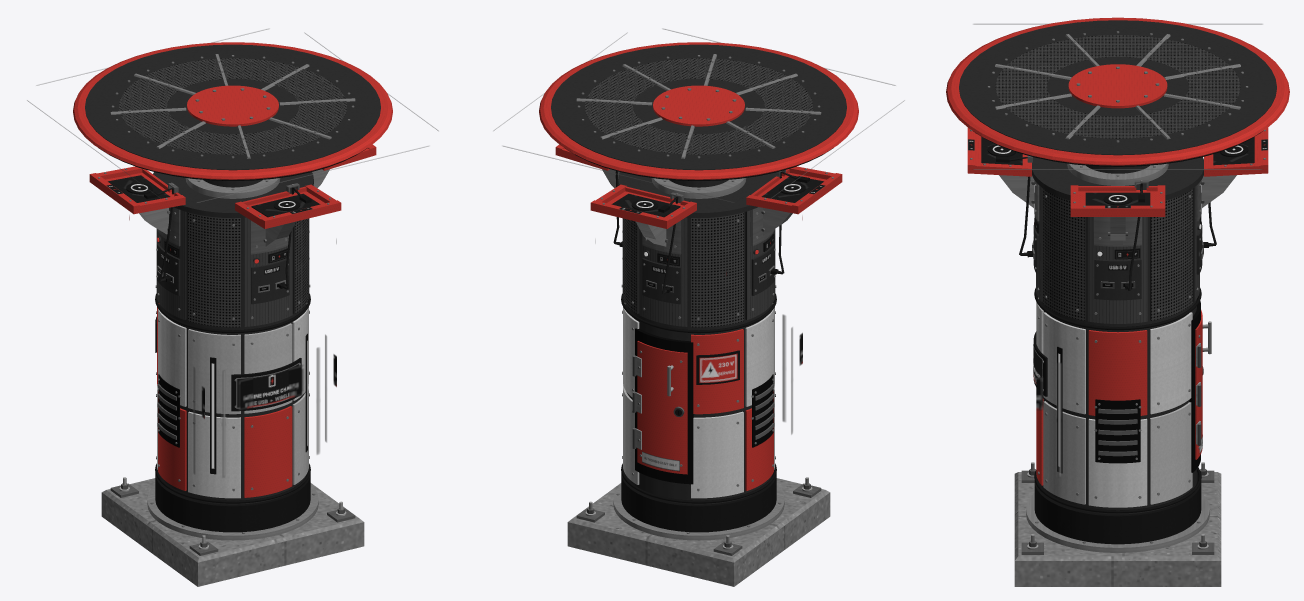
The model's file is chargepillar-CHpzhi-Q.glb.
The picture shows the model from 3 angles, left to right: view 1: azimuth 30°, elevation 25°; view 2: azimuth 150°, elevation 25°; view 3: azimuth 270°, elevation 25°; orthographic projection. The views are drawn at different scales.
Parts seen in each view (by area): view 1: body, farBaked, glow; view 2: body, farBaked; view 3: body, farBaked, glow.
Boxes of the visible parts, x1=… form: body: x1=73, y1=42, x2=392, y2=586; farBaked: x1=27, y1=28, x2=438, y2=477; glow: x1=130, y1=184, x2=307, y2=468; body: x1=539, y1=42, x2=858, y2=586; farBaked: x1=493, y1=29, x2=904, y2=434; body: x1=946, y1=17, x2=1289, y2=586; farBaked: x1=973, y1=23, x2=1262, y2=477; glow: x1=992, y1=145, x2=1243, y2=466.
Bounding box in the file's own units: 0.8 × 1.18 × 0.8.
3 materials, 3 textured.
